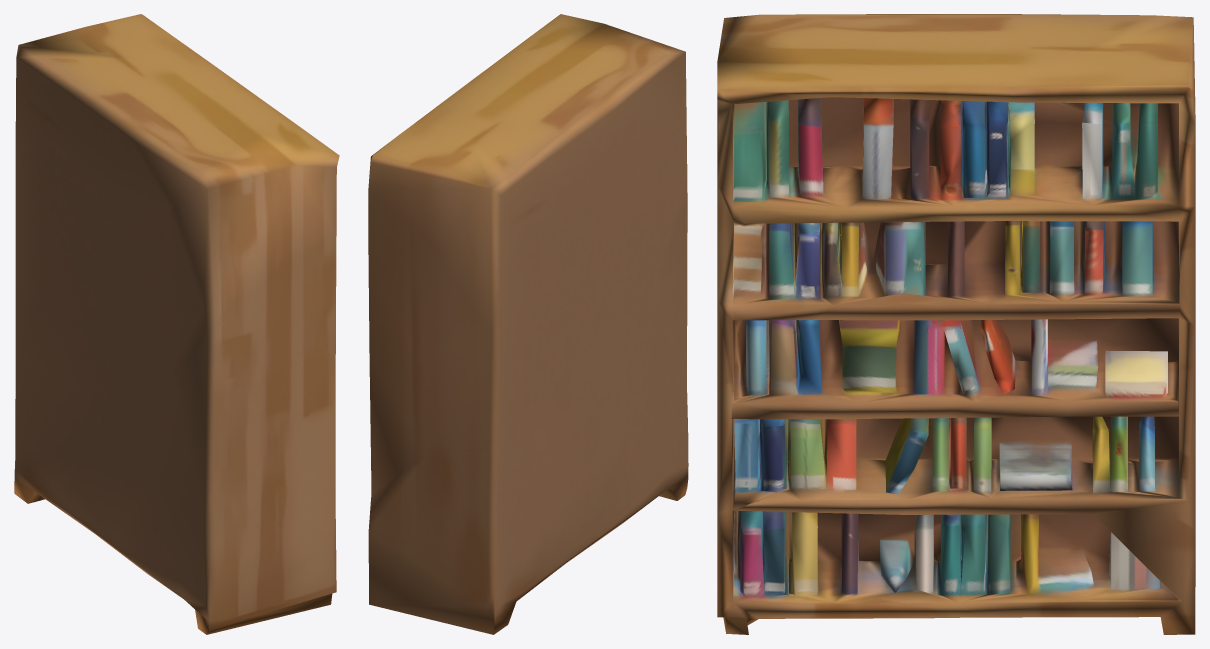
The model's file is bookshelf.glb.
The picture shows the model from 3 angles, left to right: view 1: azimuth 30°, elevation 25°; view 2: azimuth 150°, elevation 25°; view 3: azimuth 270°, elevation 25°; orthographic projection. The views are drawn at different scales.
Visible parts, largest first — view 1: tripo_node_f024cdcd-dbc0-4b7f-bd18-02a4c9216a1c; view 2: tripo_node_f024cdcd-dbc0-4b7f-bd18-02a4c9216a1c; view 3: tripo_node_f024cdcd-dbc0-4b7f-bd18-02a4c9216a1c.
Boxes of the visible parts, x1,y1,x2,y2 form: tripo_node_f024cdcd-dbc0-4b7f-bd18-02a4c9216a1c: (14, 14, 339, 634); tripo_node_f024cdcd-dbc0-4b7f-bd18-02a4c9216a1c: (368, 14, 688, 634); tripo_node_f024cdcd-dbc0-4b7f-bd18-02a4c9216a1c: (717, 14, 1195, 634).
Bounding box in the file's own units: 0.3065 × 1 × 0.7886.
Materials: 1 (1 with a texture image).
